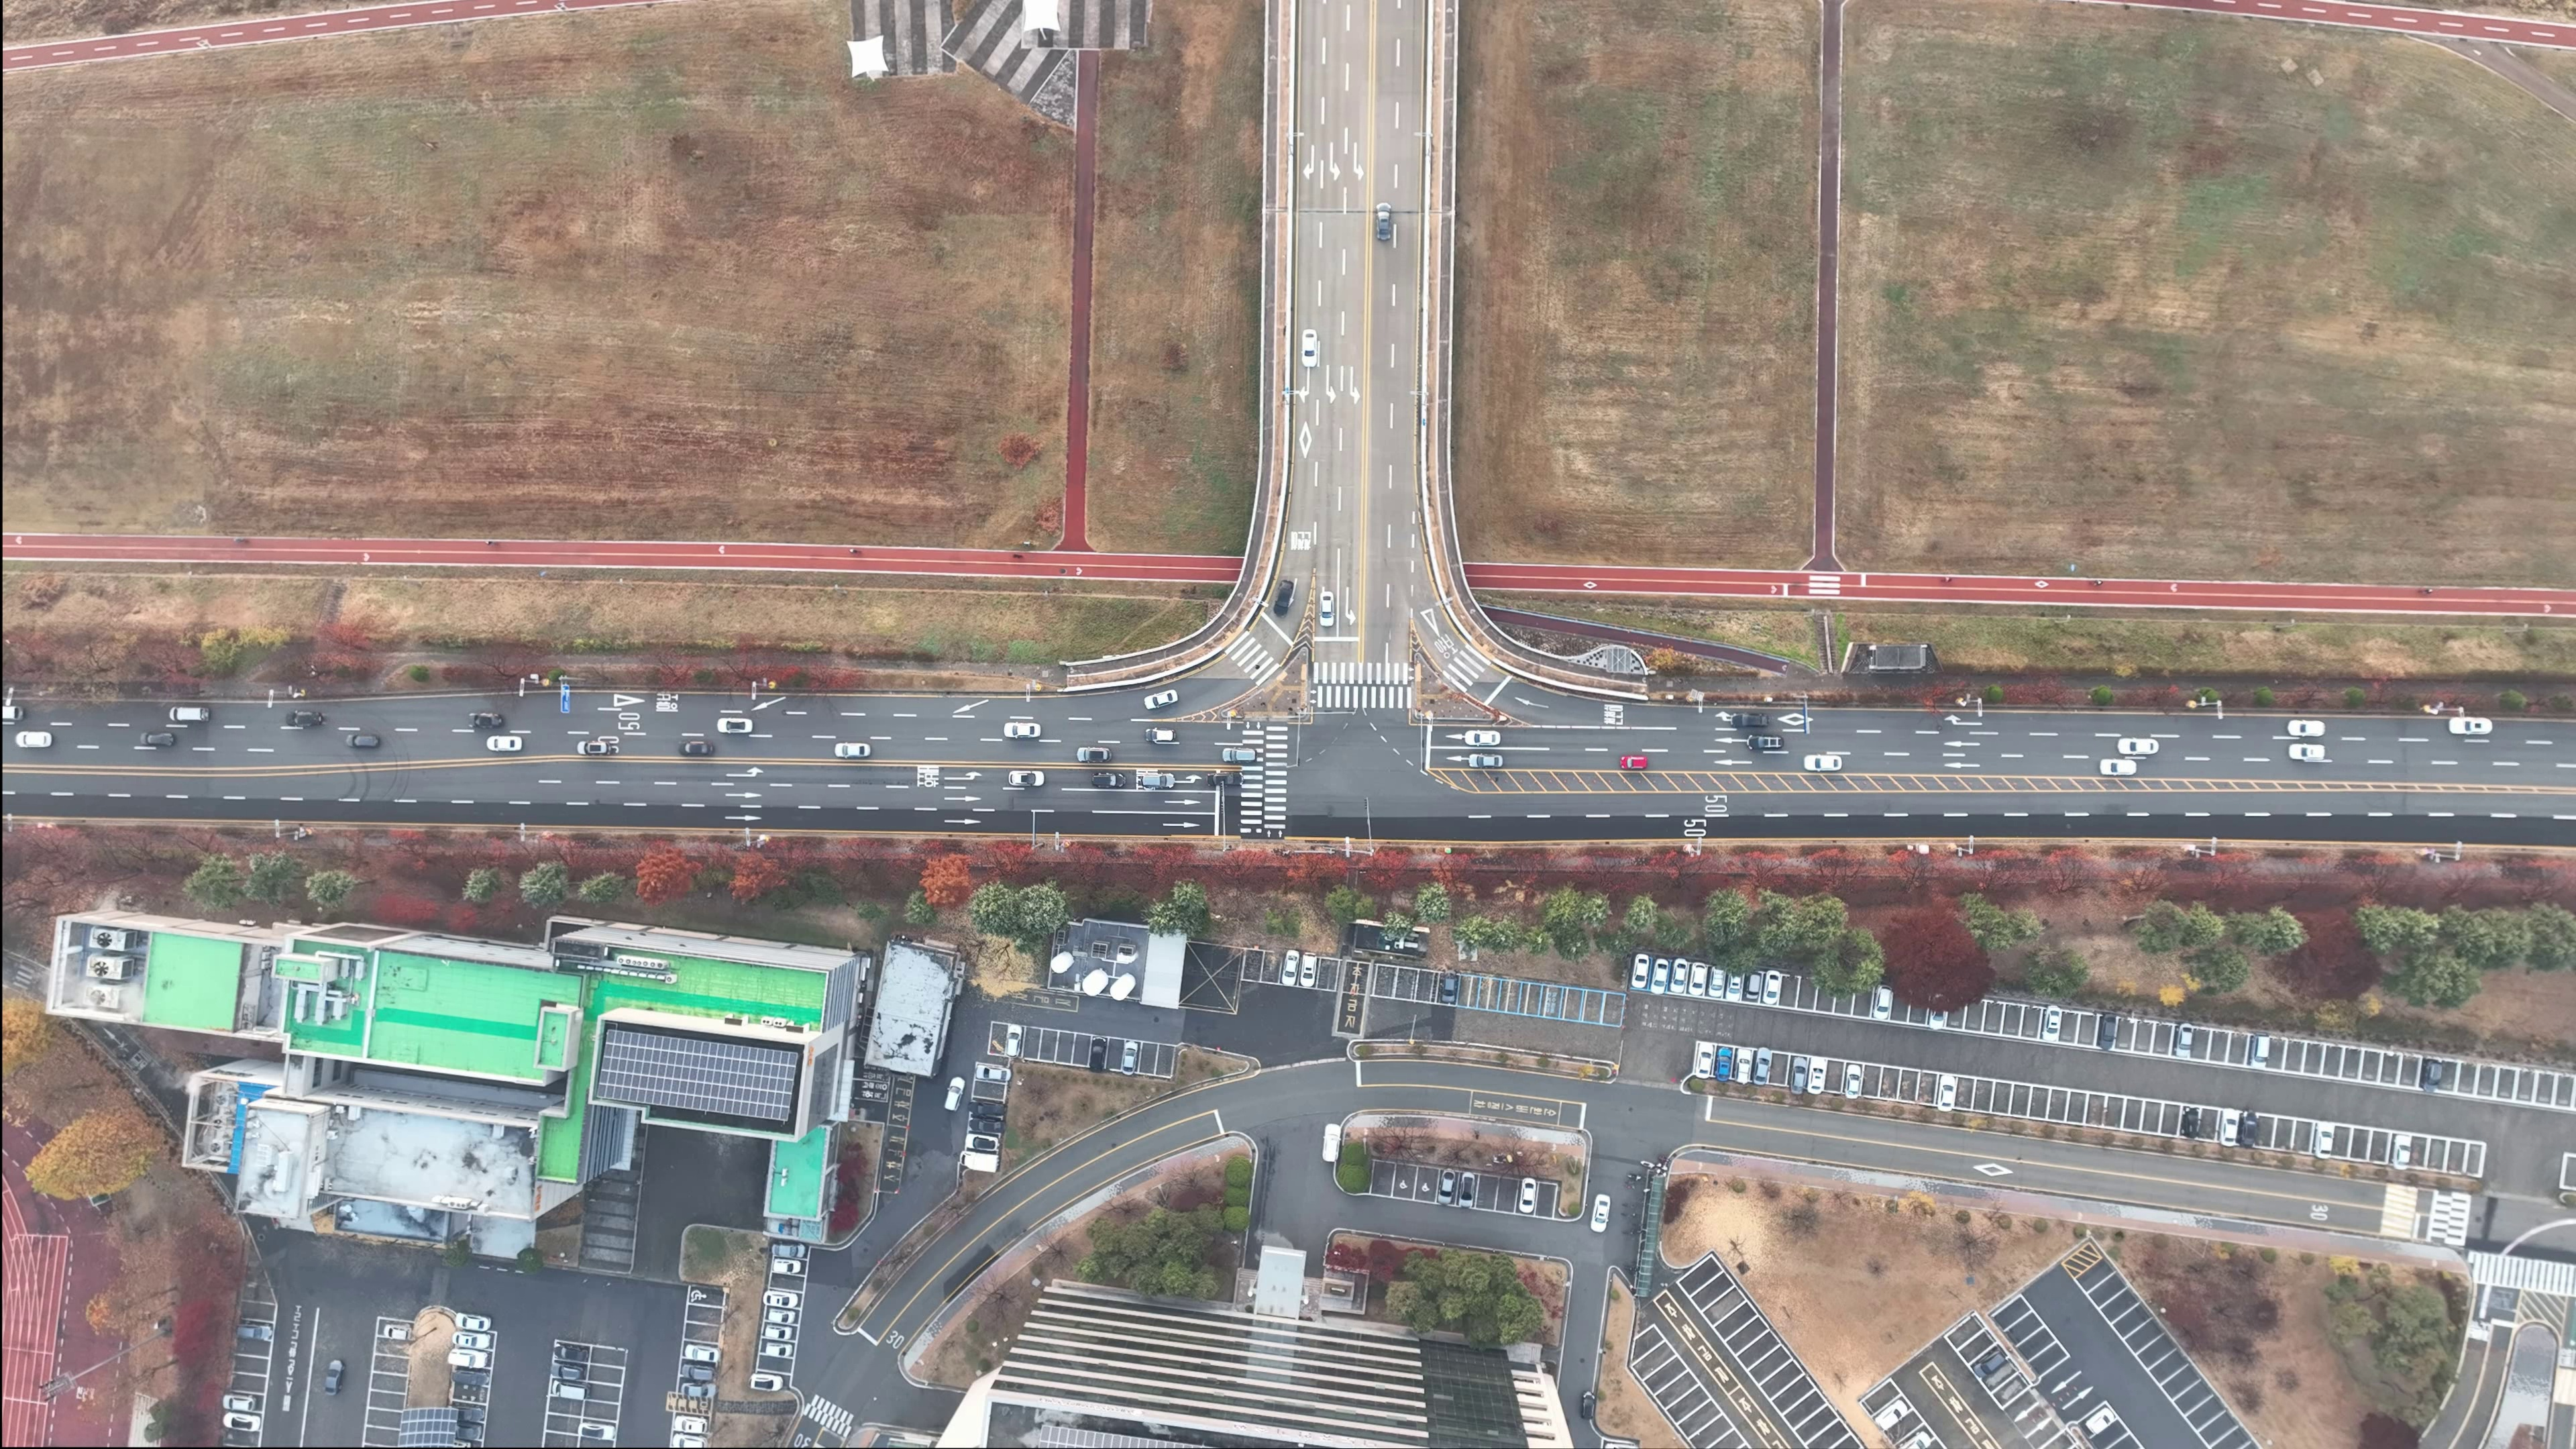car: (1867, 1398, 1916, 1431), (1964, 1348, 2015, 1380), (2079, 1407, 2123, 1435), (955, 1150, 1005, 1173), (1136, 688, 1184, 711), (547, 1380, 594, 1401), (1589, 1194, 1612, 1235), (444, 1350, 492, 1369), (941, 1076, 966, 1113), (219, 1412, 265, 1431), (322, 1359, 345, 1398), (448, 1330, 494, 1350), (448, 1368, 494, 1387), (548, 1343, 594, 1362), (759, 1290, 803, 1309), (2040, 1005, 2063, 1042), (2312, 1122, 2335, 1159), (1272, 579, 1295, 616), (2419, 1060, 2443, 1093), (1752, 1047, 1773, 1086), (1806, 1056, 1828, 1095), (2219, 1109, 2240, 1148), (573, 1422, 619, 1440), (964, 1116, 1010, 1134), (747, 1373, 787, 1392), (2097, 1014, 2118, 1051), (681, 1345, 725, 1362), (2116, 738, 2160, 755), (2449, 717, 2493, 734), (1651, 957, 1670, 996), (2240, 1109, 2259, 1148), (1322, 1123, 1341, 1162), (234, 1323, 276, 1341), (547, 1362, 589, 1380), (671, 1415, 713, 1433), (678, 1364, 720, 1382), (961, 1134, 1003, 1152), (1688, 961, 1709, 996), (2173, 1023, 2194, 1058), (2249, 1033, 2270, 1069), (1281, 950, 1300, 987), (1695, 1042, 1714, 1079), (1734, 1047, 1753, 1085), (1437, 1168, 1456, 1205), (973, 1065, 1014, 1083), (2286, 743, 2327, 761), (966, 1100, 1010, 1116), (219, 1394, 258, 1412), (1440, 968, 1460, 1003), (1762, 970, 1782, 1005), (1790, 1056, 1808, 1095), (2392, 1136, 2411, 1171), (1518, 1178, 1537, 1214), (1805, 754, 1844, 771), (1729, 713, 1771, 729), (379, 1323, 416, 1341), (1670, 957, 1688, 994), (1458, 1171, 1476, 1208), (1005, 1024, 1024, 1058), (2098, 759, 2139, 775), (1090, 1037, 1108, 1072), (1300, 952, 1318, 987), (1631, 954, 1649, 989), (1937, 1076, 1955, 1111), (285, 711, 324, 727), (1003, 722, 1042, 738), (2288, 720, 2327, 736), (771, 1242, 809, 1258), (1076, 747, 1113, 763), (1463, 731, 1500, 747), (1376, 203, 1392, 241), (2181, 1108, 2201, 1138), (168, 708, 209, 722), (1302, 327, 1316, 368), (761, 1325, 796, 1341), (1122, 1040, 1138, 1076), (1716, 1047, 1732, 1083), (1008, 770, 1044, 786), (467, 713, 502, 729), (1221, 747, 1256, 763), (770, 1258, 803, 1274), (1845, 1065, 1861, 1099), (487, 736, 524, 750), (1746, 734, 1783, 748), (16, 732, 51, 747), (577, 741, 612, 755), (1208, 773, 1244, 787), (678, 741, 713, 755), (1320, 591, 1334, 626), (835, 743, 870, 757), (1468, 754, 1504, 768), (140, 732, 173, 747), (345, 732, 379, 747), (766, 1309, 800, 1323), (1092, 773, 1125, 787), (718, 718, 752, 732), (763, 1343, 794, 1357), (1143, 727, 1175, 741), (1619, 755, 1649, 770), (1744, 973, 1760, 1000), (681, 1384, 715, 1396), (1141, 775, 1175, 787), (1582, 1391, 1594, 1419)
